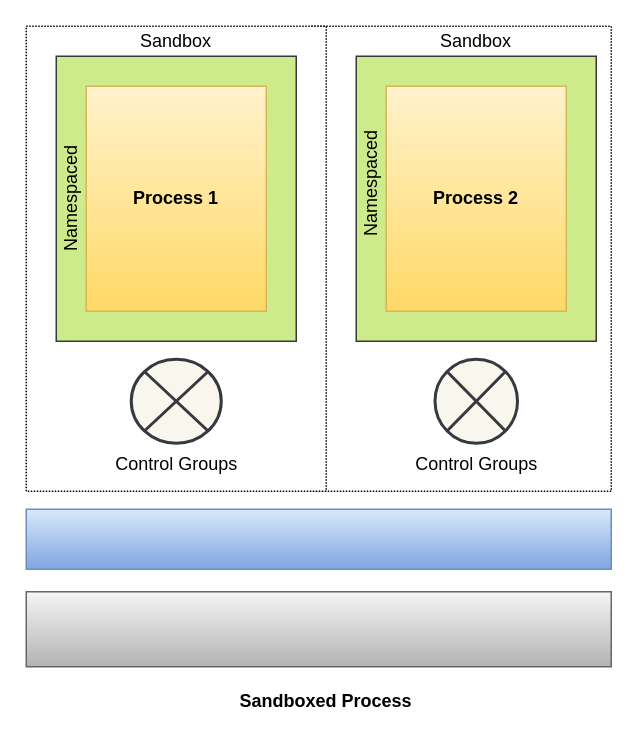
Image size: 638x743. Some labels were removed from this diagram. The box of each missing label's shape, as (x1, y1, x2, y2) in pixels:
Hardware: (25, 590, 611, 667)
OS: (25, 508, 611, 569)
